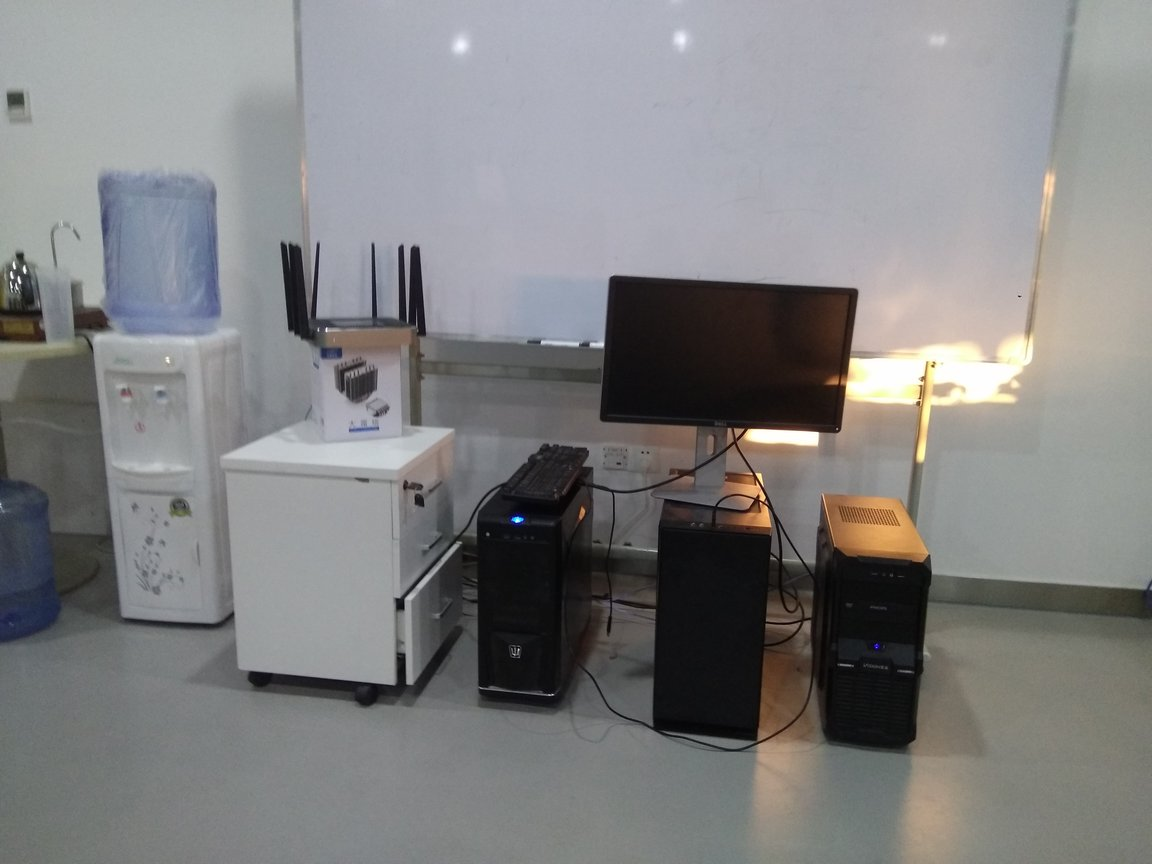computer: (653, 466, 774, 762), (810, 487, 929, 755), (468, 466, 597, 711)
drawer chest: (220, 419, 449, 701)
monitor: (604, 272, 848, 516)
scuttlebutt: (94, 172, 229, 333), (1, 457, 75, 658)
water dispenser: (89, 326, 241, 640)
